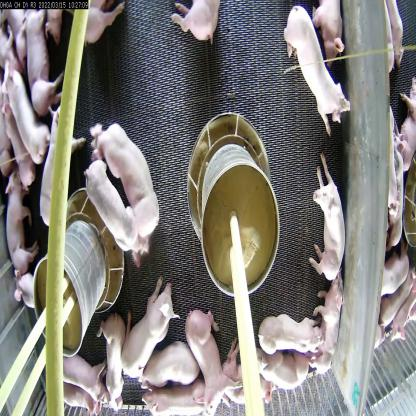Pig: (277, 9, 349, 127), (94, 111, 156, 235), (117, 286, 185, 383), (79, 155, 138, 257), (0, 59, 52, 167), (310, 156, 346, 288), (252, 300, 324, 366), (38, 104, 76, 228), (42, 332, 97, 416), (0, 155, 42, 258), (305, 275, 347, 377), (187, 306, 227, 407), (134, 382, 225, 416), (252, 346, 315, 395), (134, 340, 198, 388), (100, 311, 126, 402)
